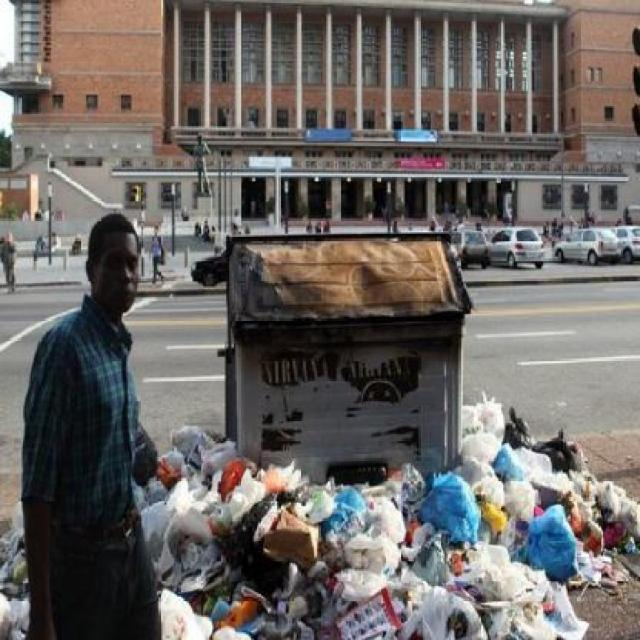garbage: (172, 436, 633, 640), (462, 399, 591, 528), (143, 408, 229, 580), (1, 496, 24, 639)
